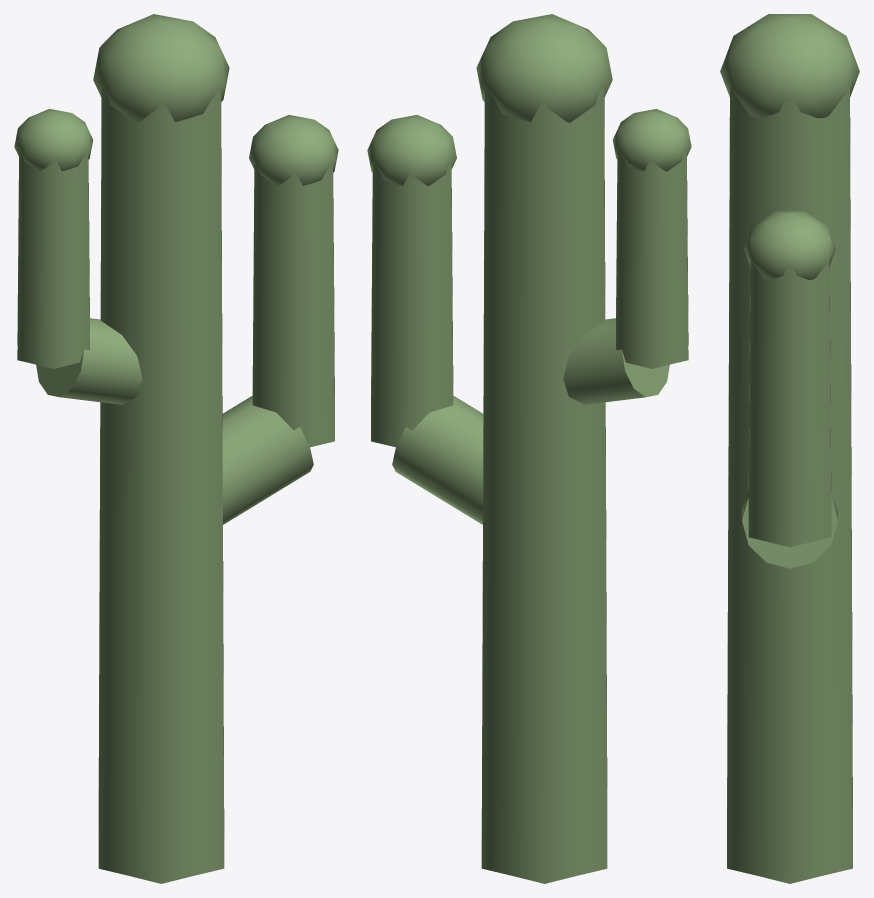
Rendered from cactus.glb.
The picture shows the model from 3 angles, left to right: view 1: azimuth 30°, elevation 25°; view 2: azimuth 150°, elevation 25°; view 3: azimuth 270°, elevation 25°; orthographic projection.
Visible parts, largest first — view 1: cactus; view 2: cactus; view 3: cactus.
Boxes of the visible parts, bbox=[...] form: cactus: bbox=[14, 14, 338, 883]; cactus: bbox=[367, 14, 691, 883]; cactus: bbox=[720, 14, 859, 883].
Size of what is drawn, in the model's own units: 1.92 by 4.8 by 0.7296.
